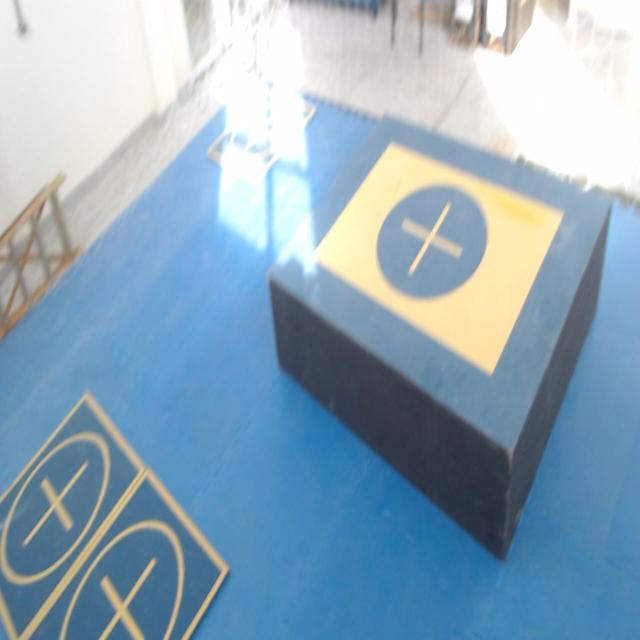base_inicio: (308, 141, 564, 375)
base_pouso: (14, 463, 229, 639), (0, 389, 147, 639)
